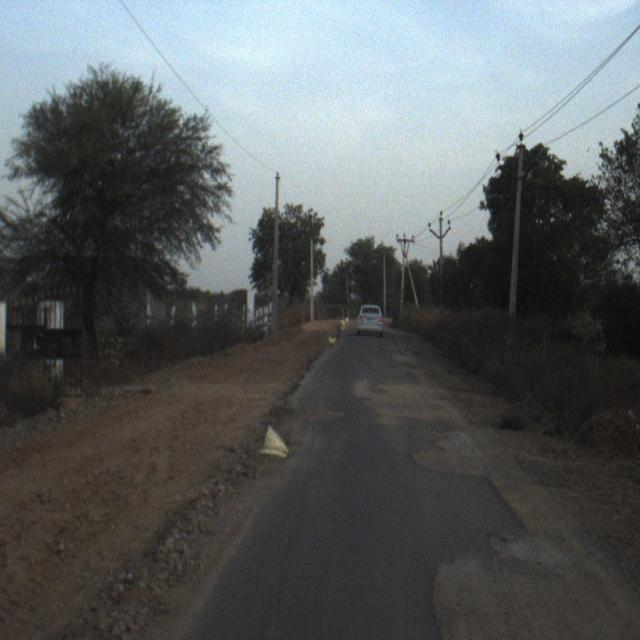Pothole: (436, 523, 640, 640), (409, 419, 482, 474), (262, 427, 291, 461)
